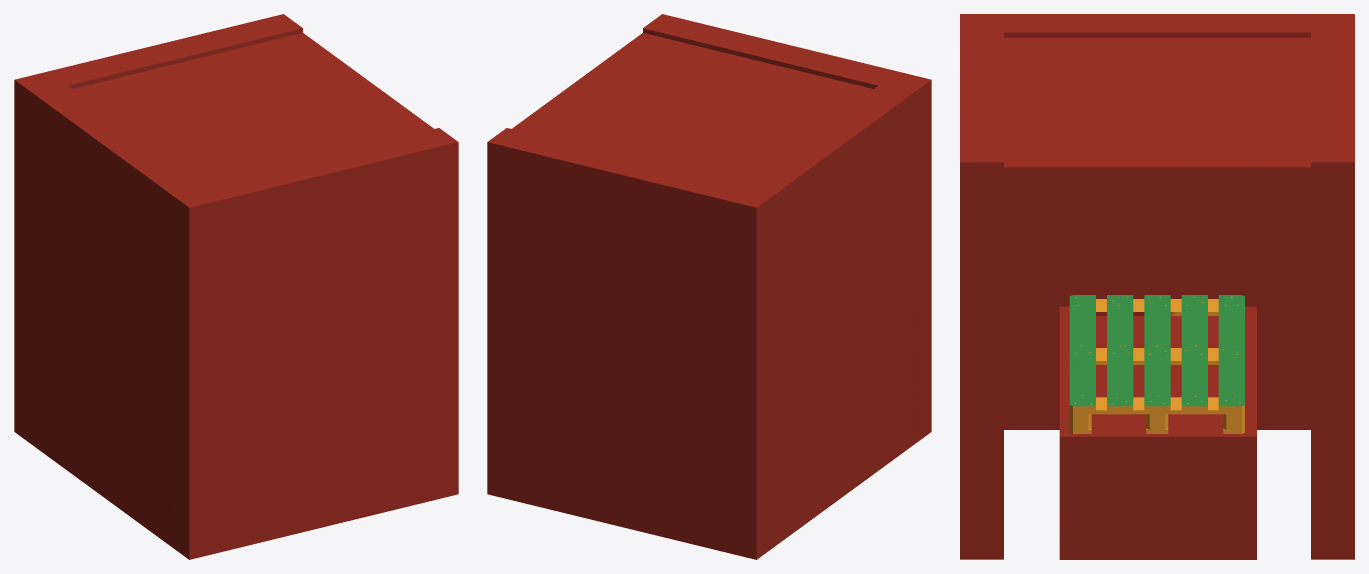
File: usecase1_meshed_2strati.dae
3 renders of one model, left to right at view 1: azimuth 30°, elevation 25°; view 2: azimuth 150°, elevation 25°; view 3: azimuth 270°, elevation 25°, orthographic. The views are drawn at different scales.
Parts seen in each view (by area): view 1: usecase1_meshed_2strati; view 2: usecase1_meshed_2strati; view 3: usecase1_meshed_2strati.
Part boxes in pixels (bbox=[...]): usecase1_meshed_2strati: bbox=[14, 14, 458, 559]; usecase1_meshed_2strati: bbox=[487, 14, 931, 559]; usecase1_meshed_2strati: bbox=[960, 14, 1354, 559].
Bounding box in the file's own units: 1.6 × 1.8 × 2.
